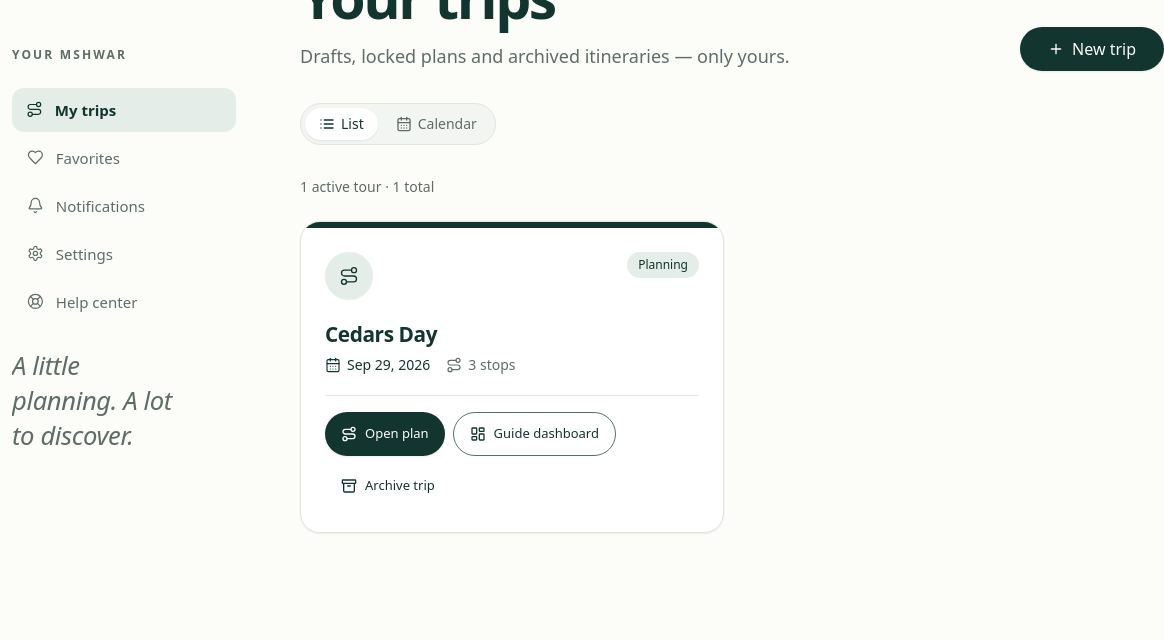
Test: account hub views › shows trips on a calendar and filters by the planned day
The width and height of the screenshot is (1164, 640).
Expected: the heading "Cedars Day" is shown, [325,320,437,348]
// Switch to the calendar view.
Step 1. Click the tab "Calendar" → {"x": 436, "y": 124}, box [382,108,491,140]
(page scrolled)
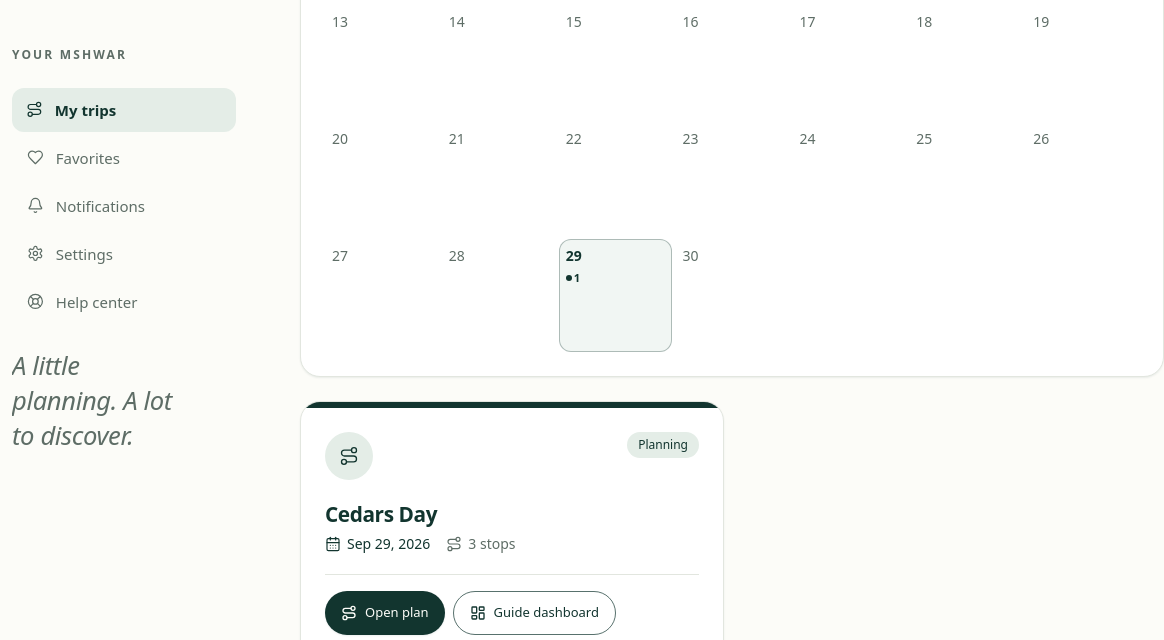
Expected: the heading "Cedars Day" is shown, [325,500,437,528]
Expected: the button "29 1" is shown
Step 2. Click the button "29 1" → {"x": 615, "y": 295}, box [559,239,672,352]
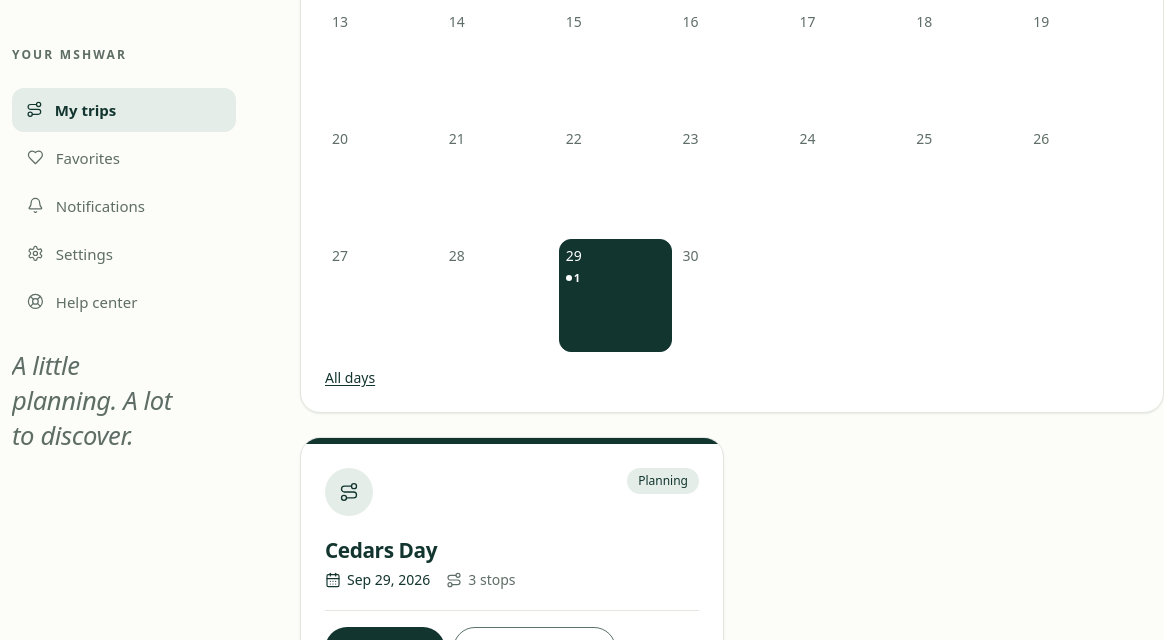
Expected: the heading "Cedars Day" is shown, [325,536,437,564]
Expected: the button "All days" is shown, [325,368,375,388]
